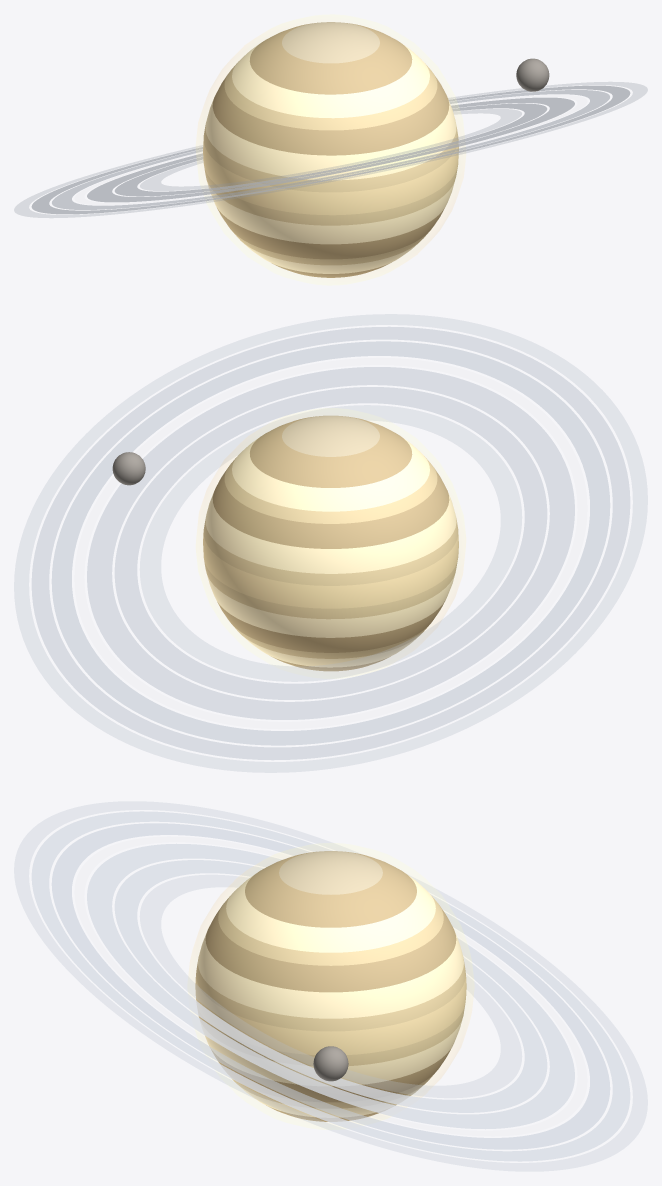
Rendered from planet_saturn.glb.
3 views of the same model, one above another, from view 1: azimuth 30°, elevation 25°; view 2: azimuth 150°, elevation 25°; view 3: azimuth 270°, elevation 25° (orthographic). The views are drawn at different scales.
Parts seen in each view (by area): view 1: Planet, Rings, Atmosphere, Moon; view 2: Rings, Planet, Atmosphere, Moon; view 3: Rings, Planet, Atmosphere, Moon.
Boxes of the visible parts, x1,y1,x2,y2 form: Planet: [203, 22, 458, 277]; Rings: [14, 82, 647, 217]; Atmosphere: [196, 15, 465, 284]; Moon: [516, 58, 549, 91]; Rings: [14, 314, 647, 772]; Planet: [203, 415, 458, 671]; Atmosphere: [196, 408, 465, 678]; Moon: [112, 452, 145, 485]; Rings: [14, 801, 647, 1171]; Planet: [195, 851, 466, 1121]; Atmosphere: [188, 843, 473, 1129]; Moon: [313, 1046, 348, 1081].
Bounding box in the file's own units: 5.04 × 2.12 × 4.67.
